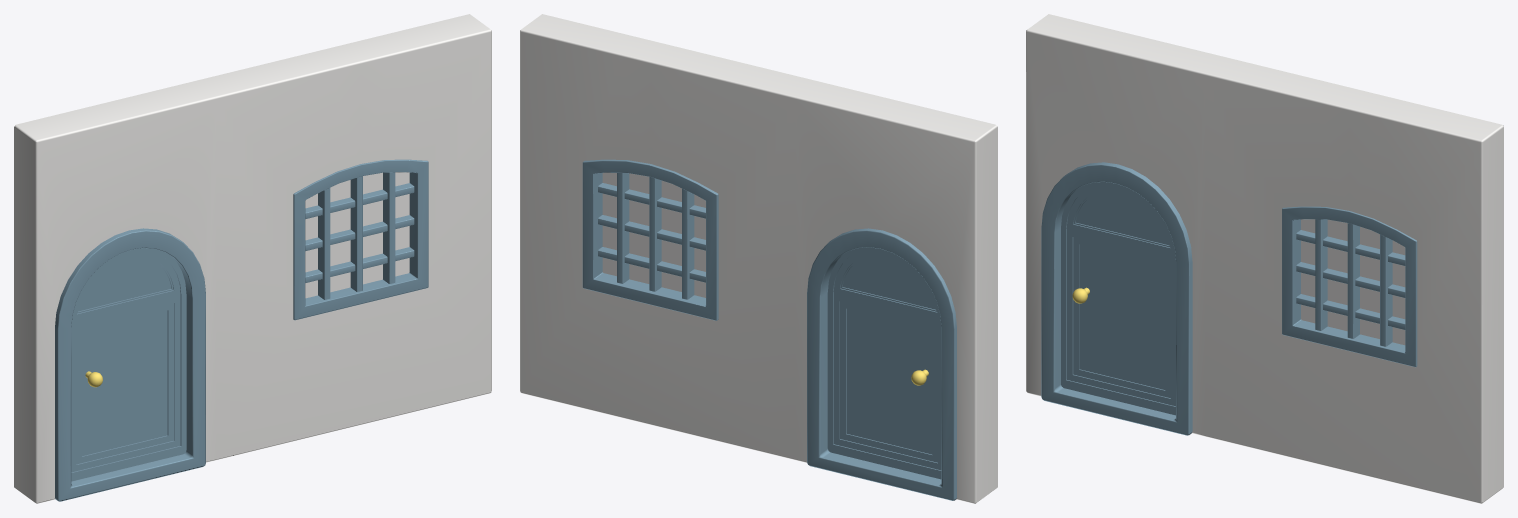
Rendered from Wall_18.glb.
3 views of the same model, side by side, from view 1: azimuth 30°, elevation 25°; view 2: azimuth 150°, elevation 25°; view 3: azimuth 330°, elevation 25° (orthographic).
Parts seen in each view (by area): view 1: Wall_18; view 2: Wall_18; view 3: Wall_18.
Part boxes in pixels (bbox=[...]): Wall_18: bbox=[14, 14, 491, 503]; Wall_18: bbox=[520, 14, 997, 503]; Wall_18: bbox=[1026, 14, 1503, 503].
Size of the model in its own units: 4.6 by 3.5 by 0.5652.
2 materials, 2 textured.
